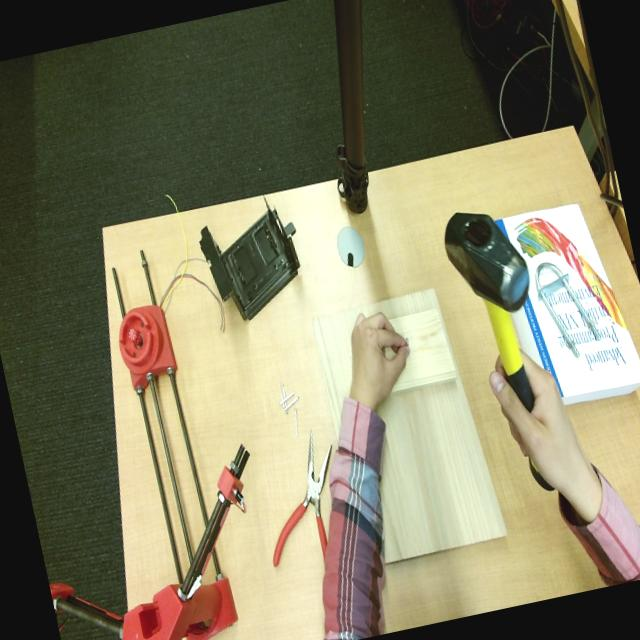hammer: (445, 213, 534, 412)
pliers: (272, 431, 331, 566)
